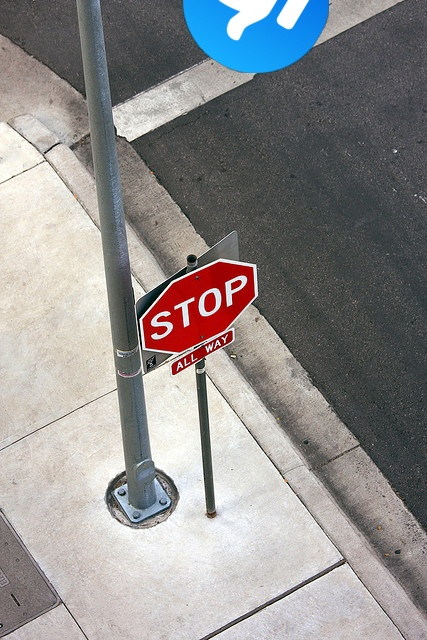like: (183, 0, 329, 73)
